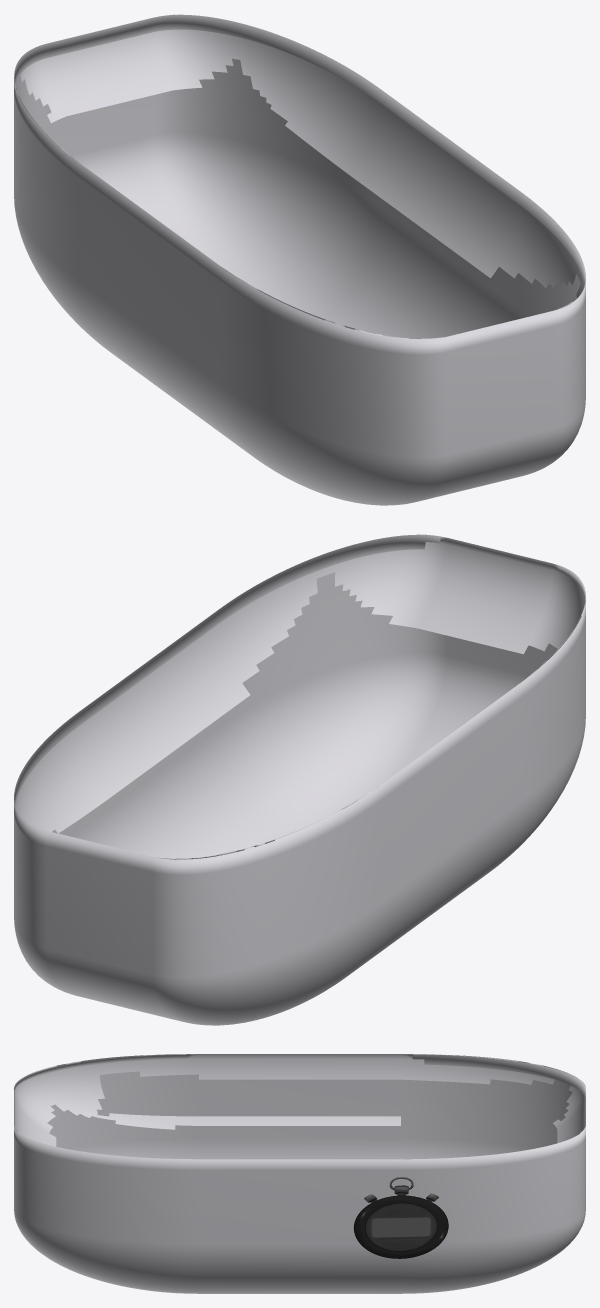
The model's file is decal test.fbx.
3 renders of one model, top to bottom at view 1: azimuth 30°, elevation 25°; view 2: azimuth 150°, elevation 25°; view 3: azimuth 270°, elevation 25°, orthographic. The views are drawn at different scales.
Parts seen in each view (by area): view 1: Bathtub Body; view 2: Bathtub Body; view 3: Bathtub Body, Stopwatch.
Boxes of the visible parts, box(x1,y1,x2,y2) form: Bathtub Body: box(14, 14, 585, 505); Bathtub Body: box(14, 534, 585, 1025); Bathtub Body: box(14, 1054, 585, 1293); Stopwatch: box(353, 1177, 448, 1258).
Size of the model in its own units: 101 by 72.06 by 230.
Materials: 2 (1 with a texture image).
